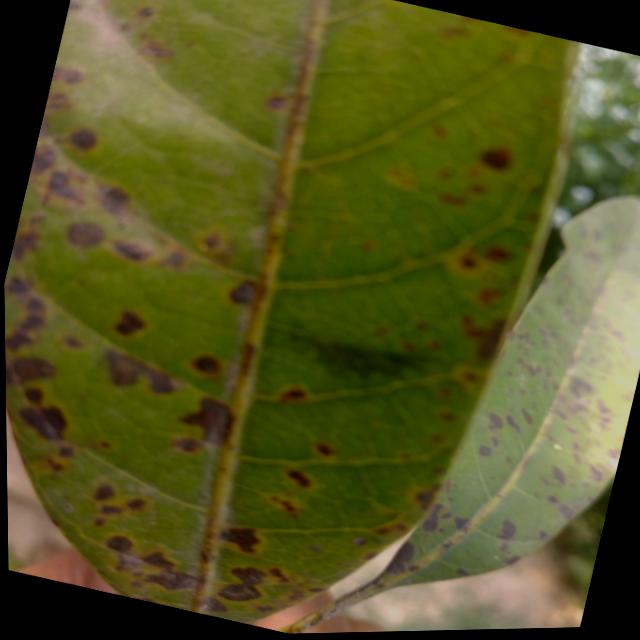Anthracnose: (97, 529, 204, 600), (93, 344, 184, 410), (79, 470, 148, 531), (179, 388, 244, 452), (2, 284, 52, 358), (458, 315, 506, 363), (10, 211, 47, 266), (2, 353, 58, 388), (218, 517, 265, 558), (19, 406, 67, 441), (218, 568, 266, 602), (64, 217, 107, 253), (385, 540, 421, 581), (135, 33, 178, 67), (113, 307, 149, 343), (95, 183, 132, 218), (267, 487, 305, 520), (110, 237, 156, 264), (66, 123, 100, 156), (190, 349, 225, 381), (29, 143, 59, 179), (145, 570, 197, 590), (169, 431, 206, 459), (413, 483, 446, 512), (227, 278, 258, 308), (285, 464, 314, 493), (51, 64, 86, 88), (141, 548, 177, 571), (421, 501, 445, 535), (481, 148, 512, 171), (90, 481, 117, 505), (313, 439, 339, 463), (497, 518, 520, 544), (278, 386, 308, 405), (268, 564, 291, 588), (105, 535, 134, 553), (265, 93, 288, 113), (549, 465, 569, 487), (201, 597, 227, 612), (441, 27, 468, 39), (57, 444, 77, 460), (25, 387, 43, 404), (136, 5, 156, 20), (489, 412, 503, 429), (127, 498, 146, 510), (351, 536, 368, 546), (478, 445, 492, 457)
